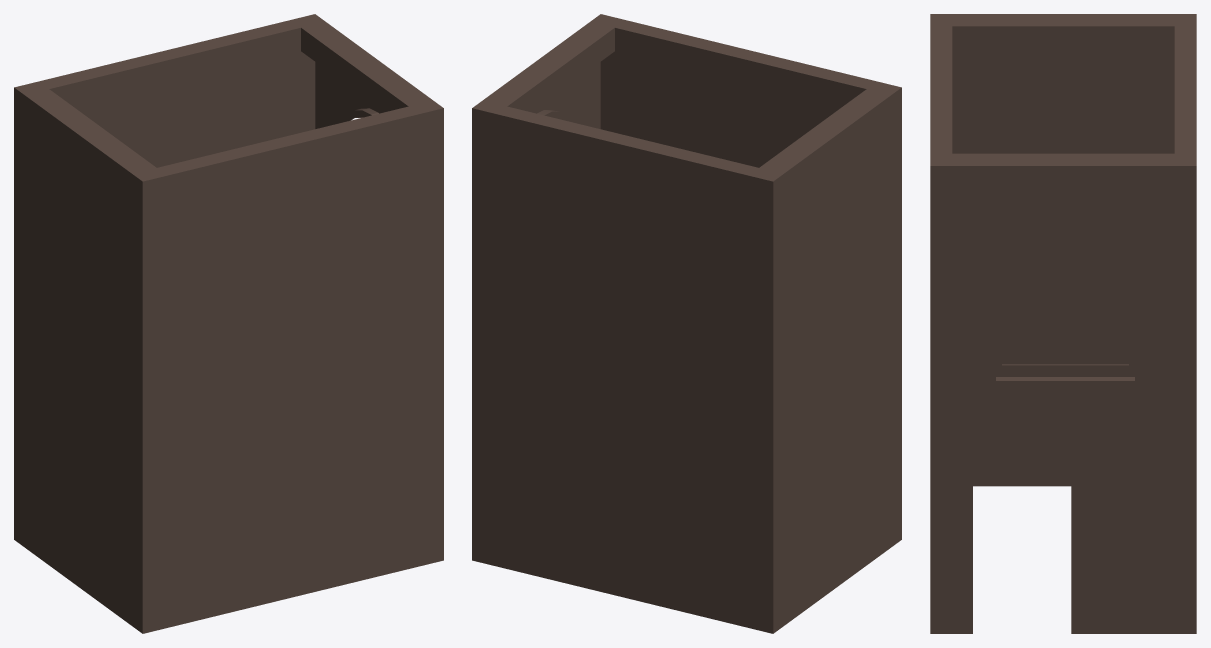
File: MainBuildingFBX.fbx
3 views of the same model, side by side, from view 1: azimuth 30°, elevation 25°; view 2: azimuth 150°, elevation 25°; view 3: azimuth 270°, elevation 25° (orthographic). The views are drawn at different scales.
Parts seen in each view (by area): view 1: polySurface32; view 2: polySurface32; view 3: polySurface32.
Part boxes in pixels (x1,y1,x2,y2): polySurface32: (14,14,443,633); polySurface32: (472,14,901,633); polySurface32: (930,14,1196,633).
Bounding box in the file's own units: 3.94 × 5.66 × 2.92.
